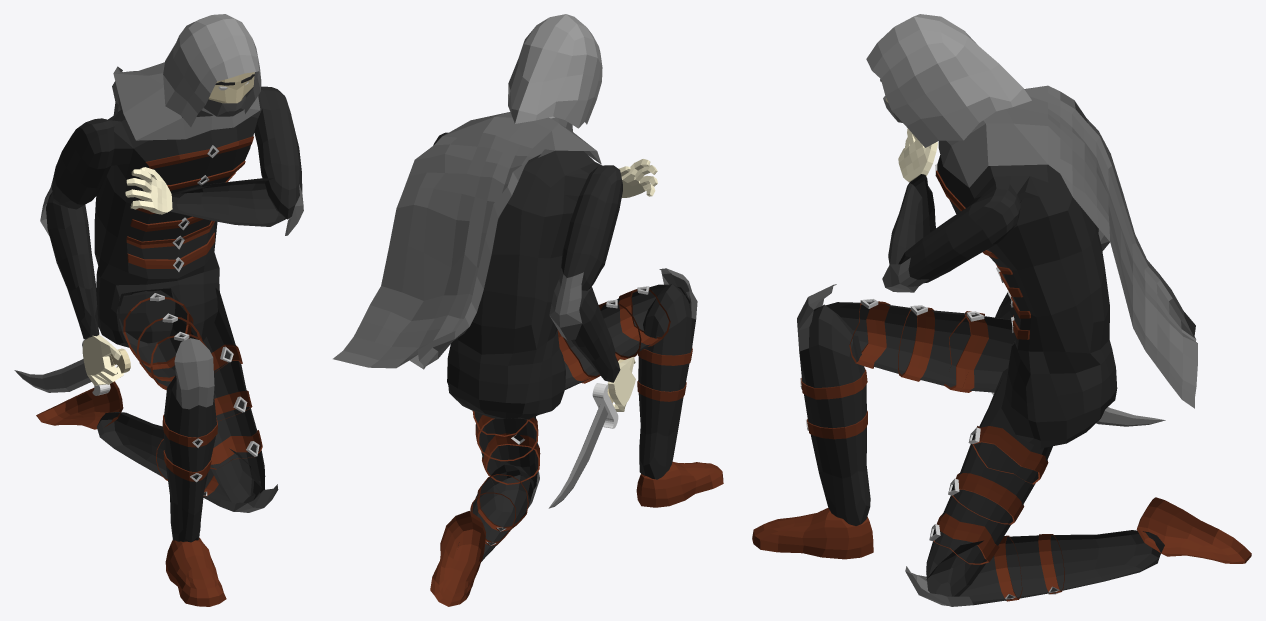
The model's file is ladronmodelo.glb.
3 renders of one model, left to right at view 1: azimuth 30°, elevation 25°; view 2: azimuth 150°, elevation 25°; view 3: azimuth 270°, elevation 25°, orthographic. The views are drawn at different scales.
Parts seen in each view (by area): view 1: ThiefTorso; view 2: ThiefTorso; view 3: ThiefTorso.
Part boxes in pixels (bbox=[...]): ThiefTorso: bbox=[14, 14, 303, 606]; ThiefTorso: bbox=[333, 14, 723, 606]; ThiefTorso: bbox=[752, 14, 1251, 606].
Size of the model in its own units: 0.3906 by 0.8748 by 0.6939.
